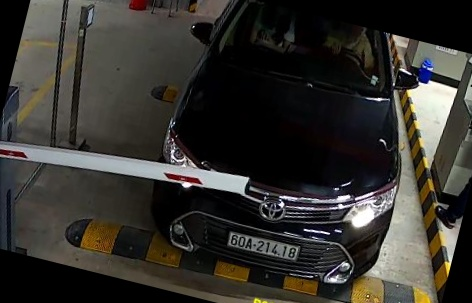plate: (225, 230, 299, 261)
